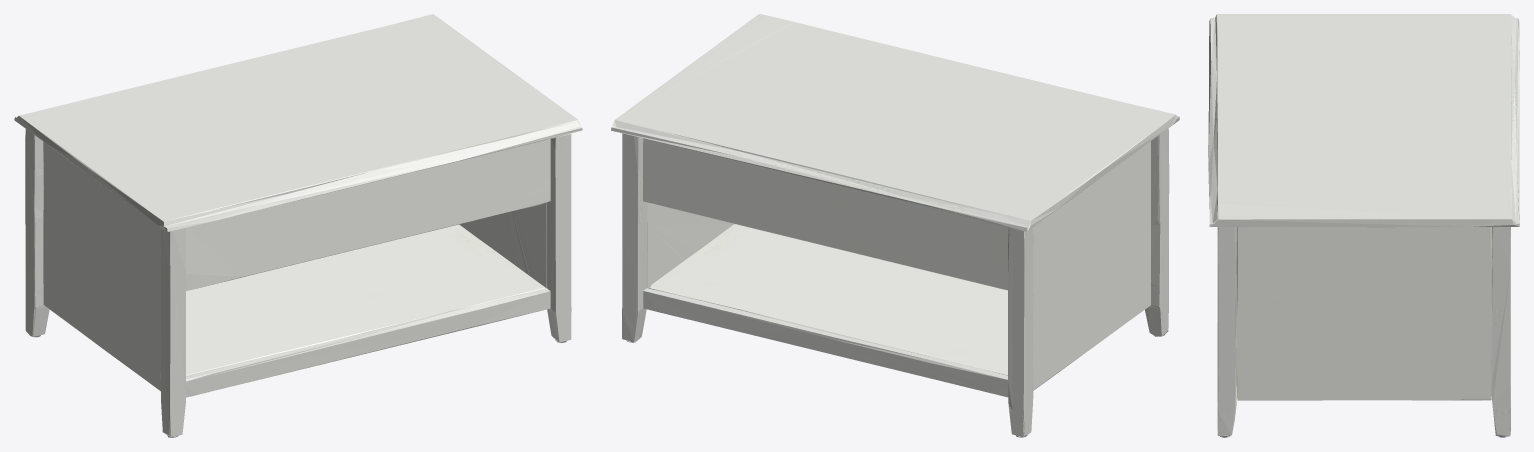
3 renders of one model, left to right at view 1: azimuth 30°, elevation 25°; view 2: azimuth 150°, elevation 25°; view 3: azimuth 270°, elevation 25°, orthographic.
Visible parts, largest first — view 1: 9cf811a0-b0d1-4d42-b271-c959f2eeb567; view 2: 9cf811a0-b0d1-4d42-b271-c959f2eeb567; view 3: 9cf811a0-b0d1-4d42-b271-c959f2eeb567.
Part boxes in pixels (x1,y1,x2,y2): 9cf811a0-b0d1-4d42-b271-c959f2eeb567: (14,14,582,437); 9cf811a0-b0d1-4d42-b271-c959f2eeb567: (611,14,1179,437); 9cf811a0-b0d1-4d42-b271-c959f2eeb567: (1208,14,1519,437).
Size of the model in its own units: 0.97 by 0.49 by 0.62.
Materials: 1 (1 with a texture image).
